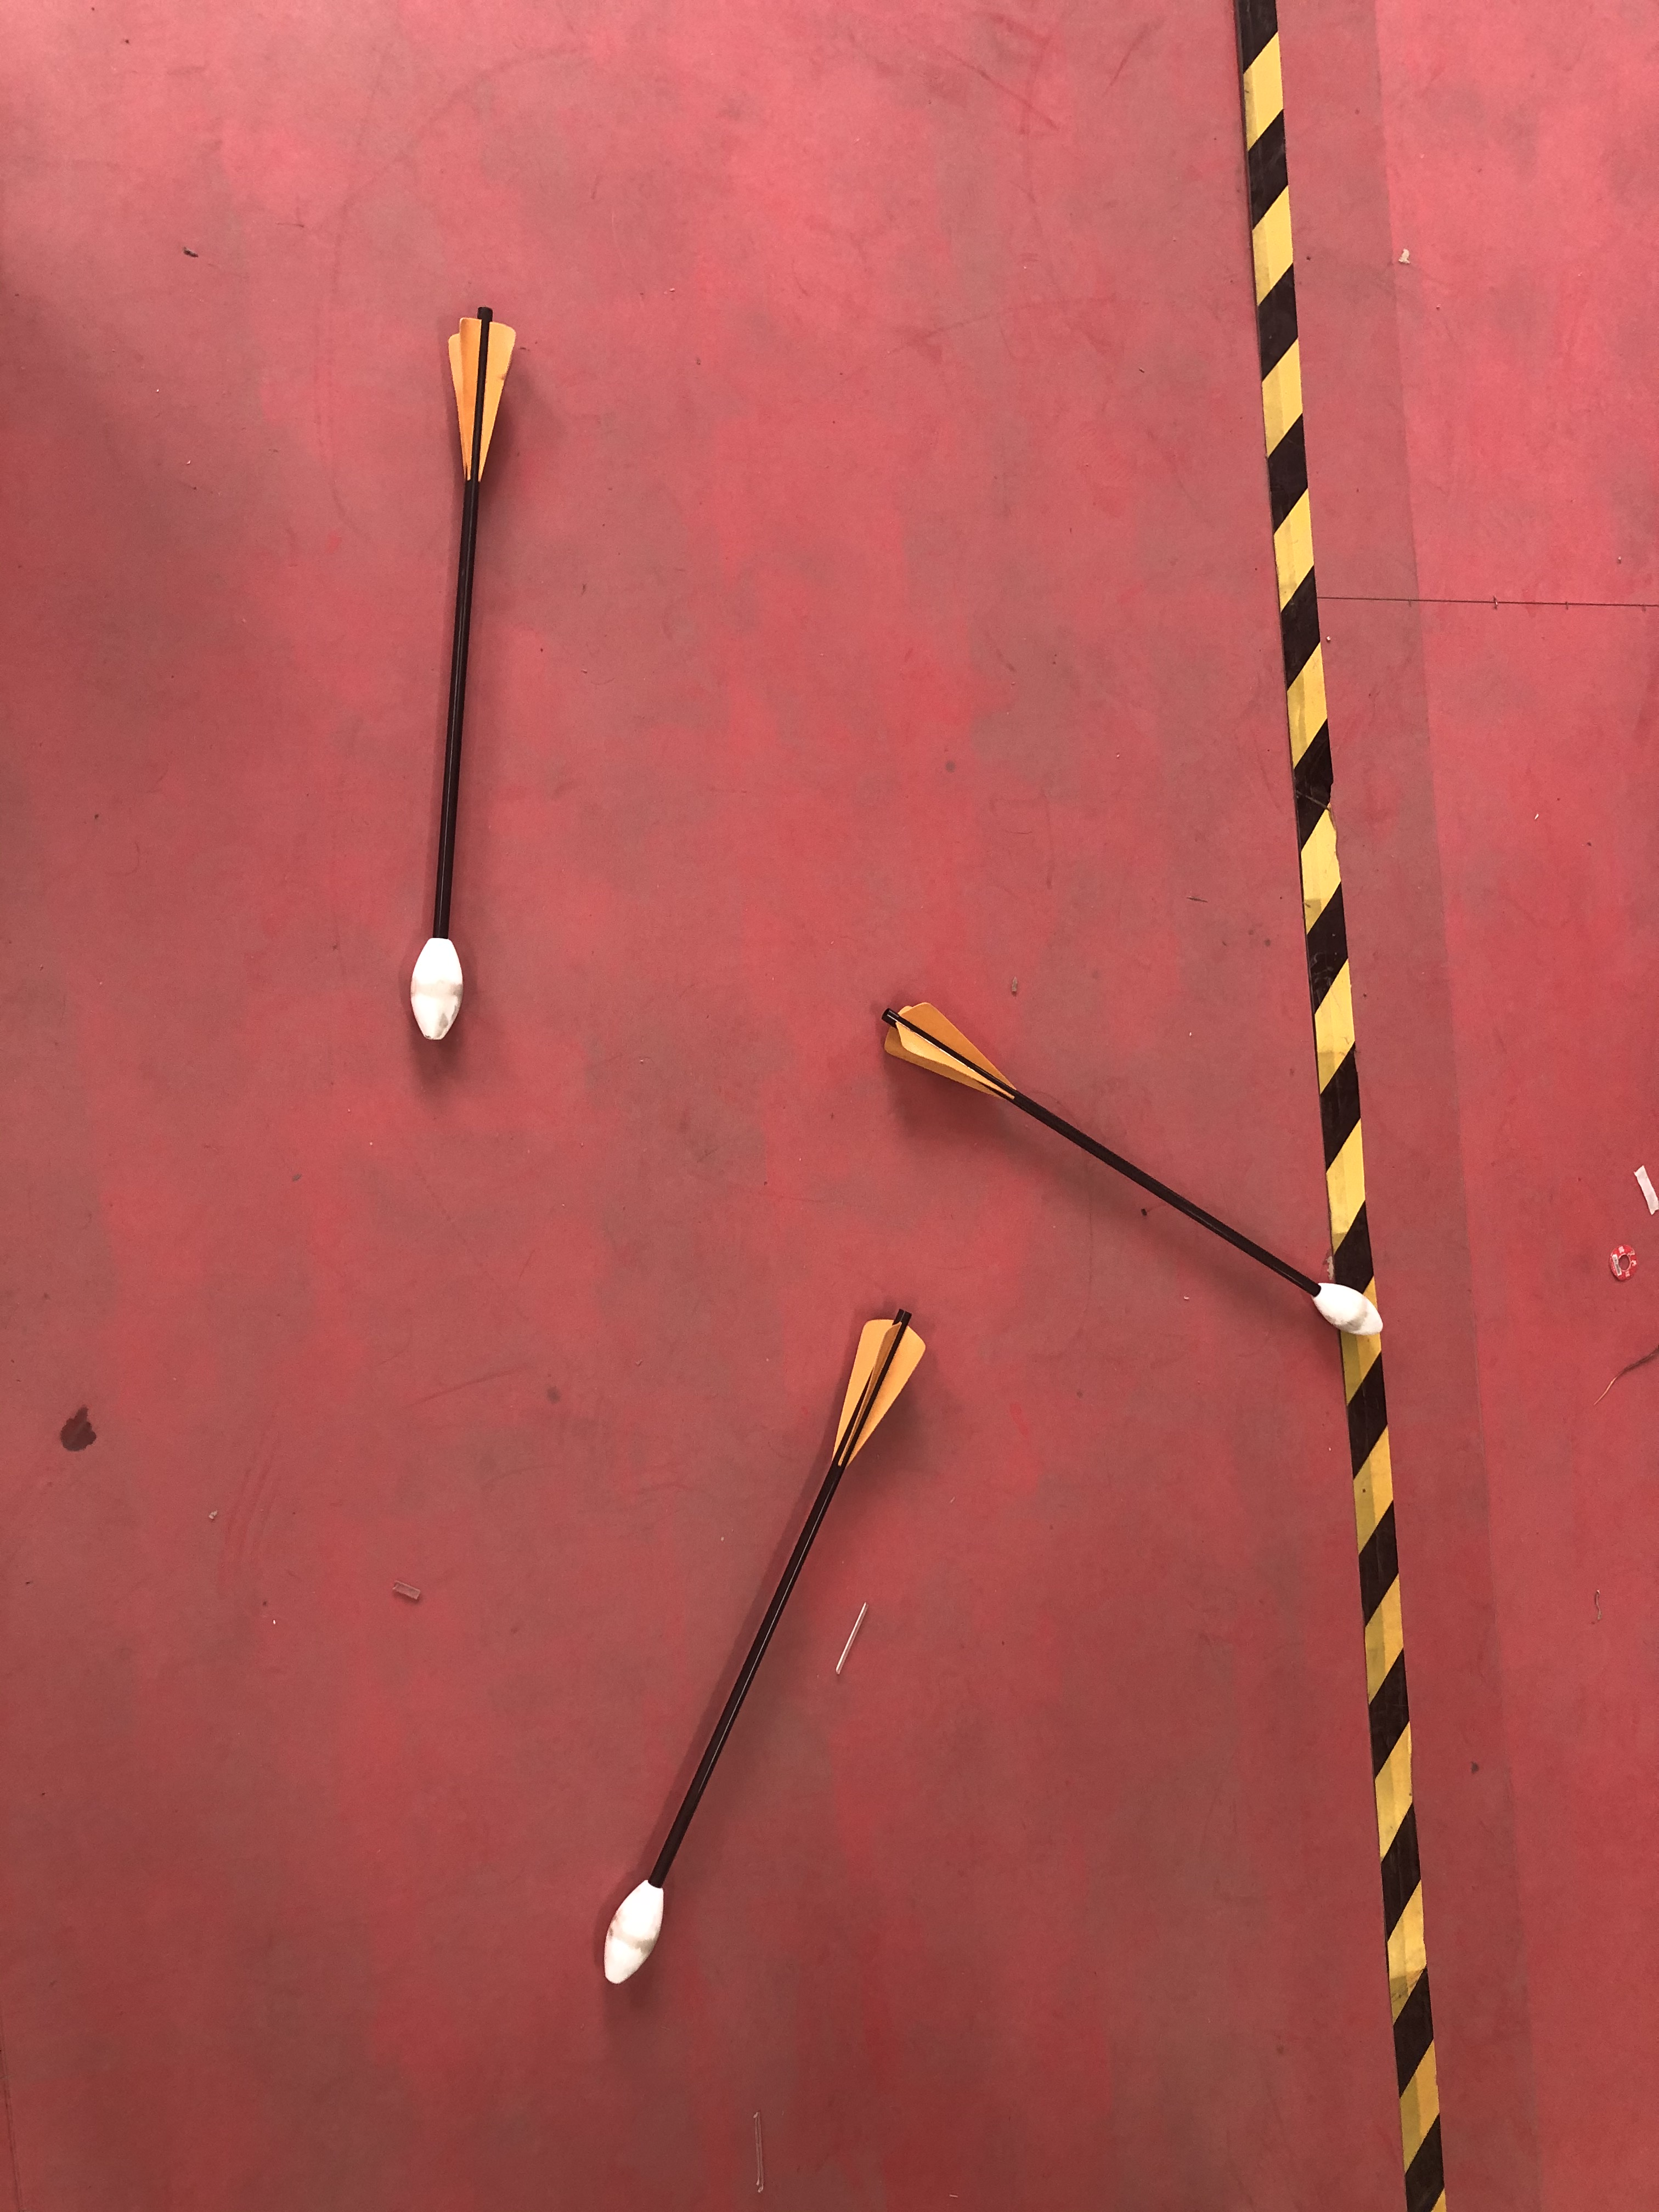arrow: (598, 1313, 927, 1987), (871, 991, 1387, 1341), (406, 301, 519, 1052)
arrowFront: (596, 1872, 666, 1980), (406, 934, 469, 1040), (1312, 1278, 1385, 1336)
